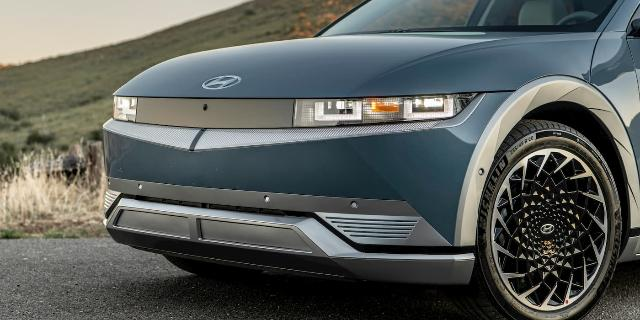hyundai: (102, 0, 640, 320)
